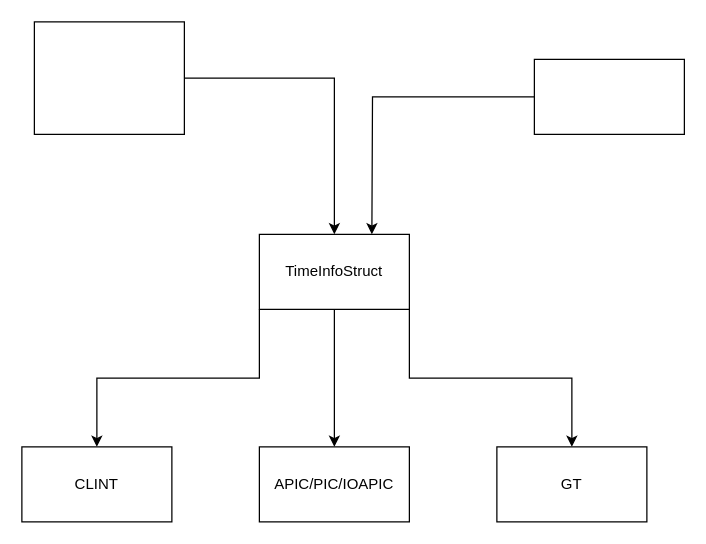
The diagram is 706 pixels wide and 544 high, and some of its shapes have lost their labels. The shapes that lost their labels are listed below. From the top down, each one's centre as x and y in pixels, then its label:
At [108,77]: "Scheduler context switch (on non MT mode), Also HardwareTimer gets implemented.".
At [608,96]: "Hook 2 system calls for timing purposes. (Wait, WaitUntil)".
